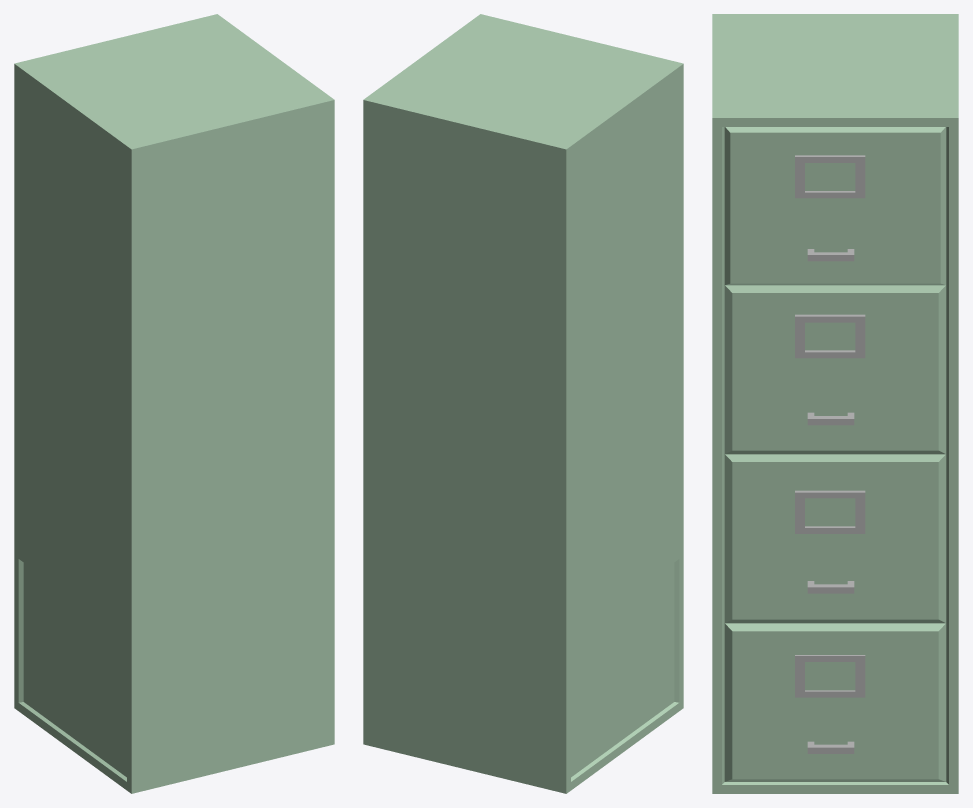
Rendered from File Cabinet.fbx.
3 views of the same model, side by side, from view 1: azimuth 30°, elevation 25°; view 2: azimuth 150°, elevation 25°; view 3: azimuth 270°, elevation 25° (orthographic). The views are drawn at different scales.
Parts seen in each view (by area): view 1: pasted__pasted__pasted__pCube3; view 2: pasted__pasted__pasted__pCube3; view 3: pasted__pasted__pasted__pCube3.
Boxes of the visible parts, bbox=[...] form: pasted__pasted__pasted__pCube3: bbox=[14, 14, 334, 793]; pasted__pasted__pasted__pCube3: bbox=[363, 14, 683, 793]; pasted__pasted__pasted__pCube3: bbox=[712, 14, 958, 793].
Bounding box in the file's own units: 4.24 × 12.05 × 3.98.
